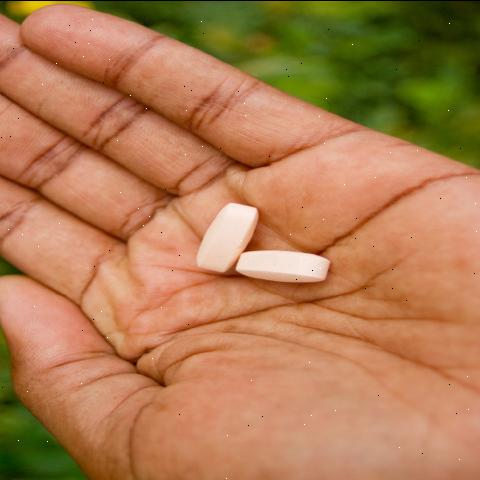Pill: (160, 193, 263, 273), (231, 243, 342, 283)
